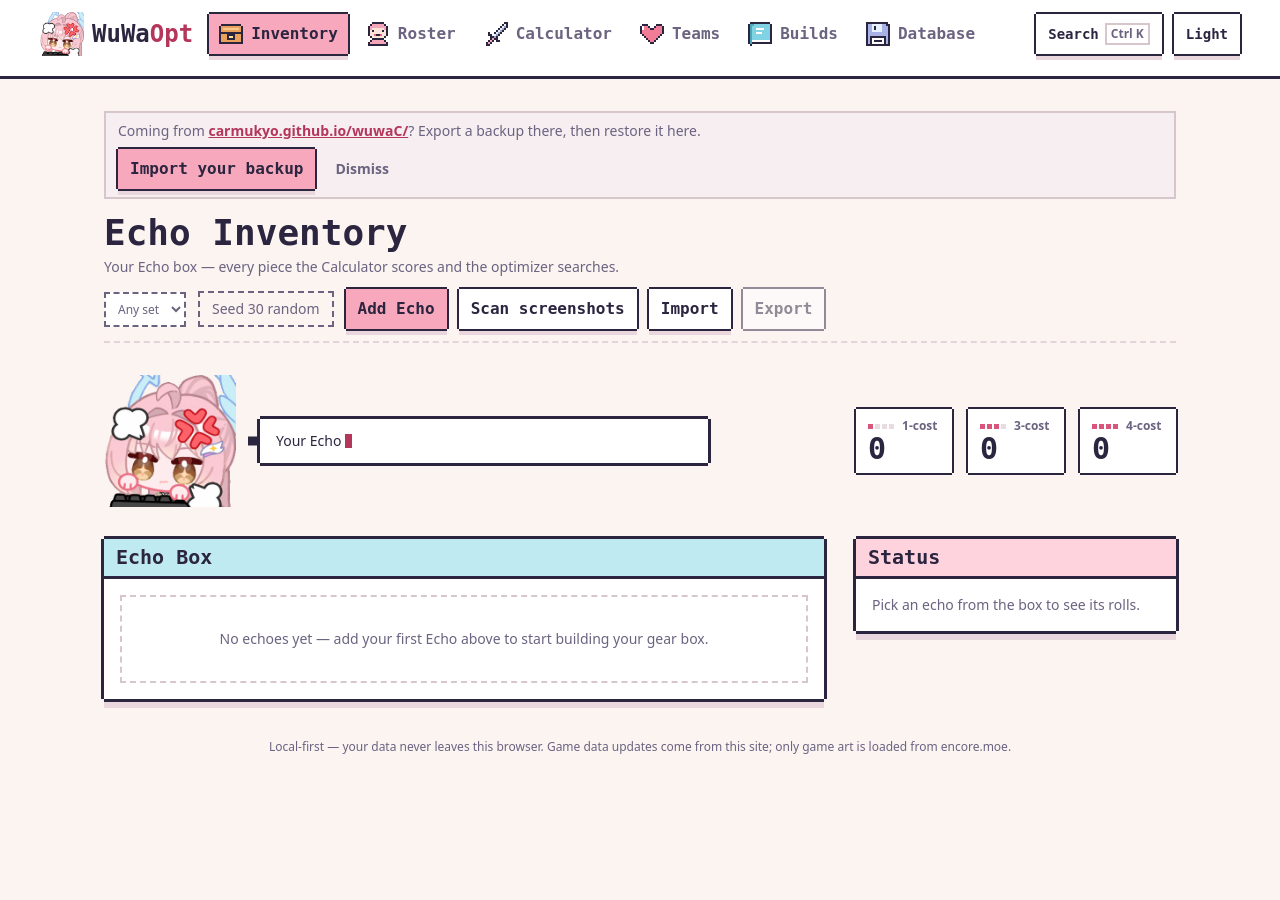
Scenario: App shell › switches sections from the terminal nav
The width and height of the screenshot is (1280, 900).
Step 1. Click the button "Roster" → [411, 34], box [356, 14, 466, 54]
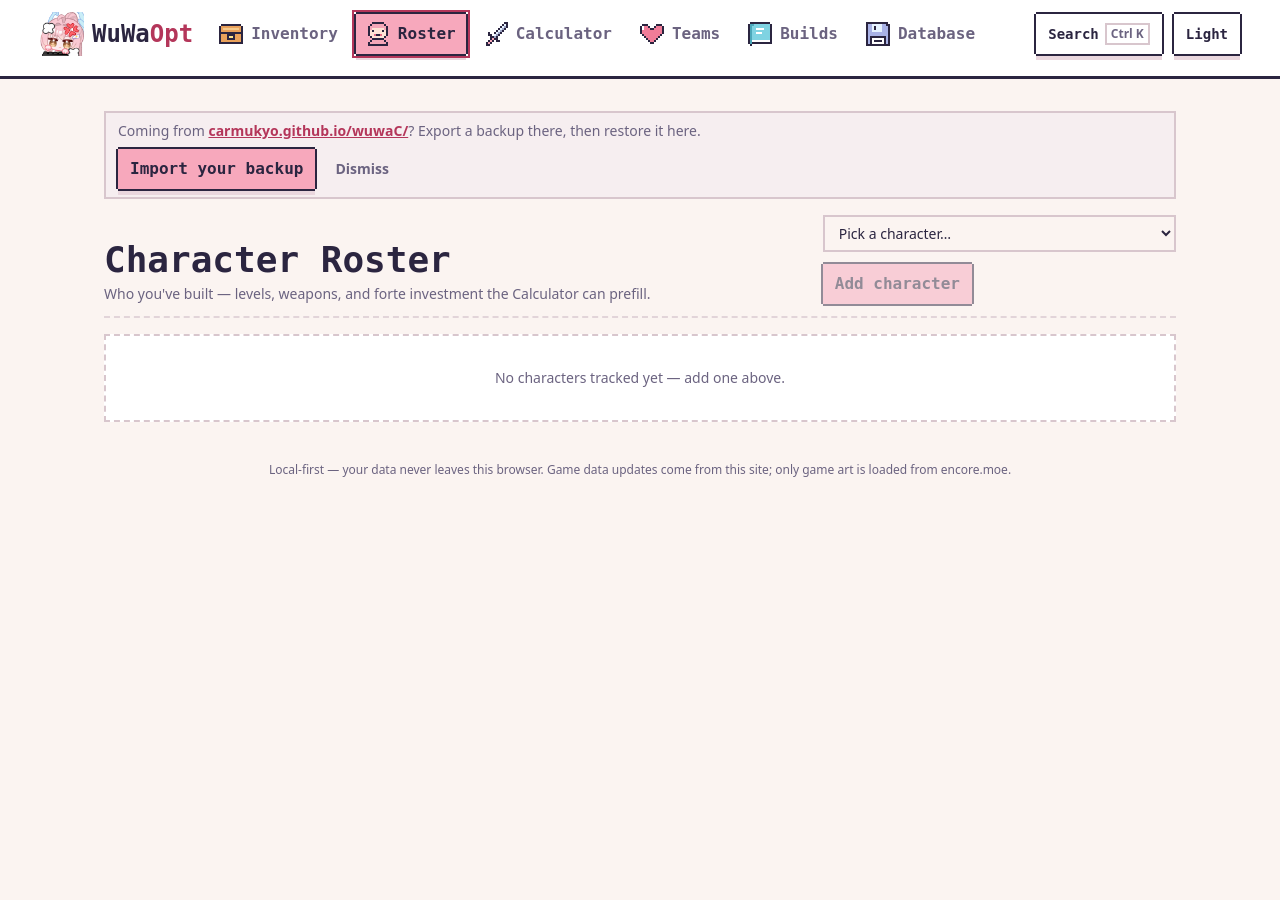
Result: the heading "Character Roster" is shown at [104, 239, 451, 280]
Result: the heading "Echo Inventory" is gone
